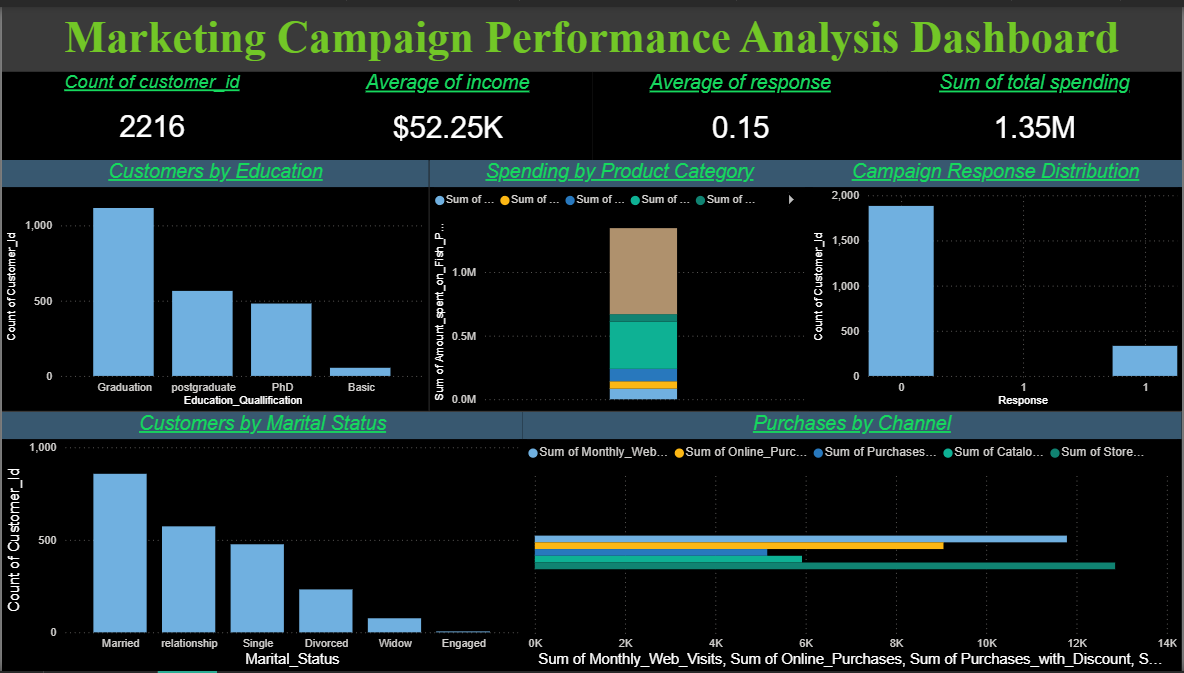

The dashboard page shown, as its layout file describes it:
{"tool":"powerbi","page":{"name":"Page 1","canvas":[1280,720],"ordinal":0},"visuals":[{"type":"card","title":"Count of customer_id","fields":{"Values":["CountNonNull(Campaign.Customer_Id)"]},"box":[0,69.9,325,96.4],"z":0},{"type":"card","title":"Average of income","fields":{"Values":["Avg(Customer. Income )"]},"box":[325,69.9,315.6,96.4],"z":1000},{"type":"card","title":"Average of response","fields":{"Values":["Avg(Campaign.Response)"]},"box":[640.6,69.9,319.4,96.4],"z":2000},{"type":"card","title":"Sum of total spending ","fields":{"Values":["Sum(Spending.Total_Spending)"]},"box":[960,69.9,319.4,96.4],"z":3000},{"type":"clusteredColumnChart","title":"Customers by Education","fields":{"Category":["Customer.Education_Quallification"],"Y":["CountNonNull(Customer.Customer_Id)"]},"box":[0,166.3,463,272.1],"z":4000},{"type":"clusteredColumnChart","title":"Customers by Marital Status","fields":{"Category":["Customer.Marital_Status"],"Y":["CountNonNull(Customer.Customer_Id)"]},"box":[0,438.4,565,281.6],"z":5000},{"type":"columnChart","title":"Spending by Product Category","fields":{"Y":["Sum(Spending.Amount_spent_on_Fish_Products)","Sum(Spending.Amount_spent_on_Fruits)","Sum(Spending.Amount_spent_on_Gold_Products)","Sum(Spending.Amount_spent_on_Meat_Products)","Sum(Spending.Amount_spent_on_Sweet_Products)","Sum(Spending.Amount_spent_on_Wines)"]},"box":[463,166.3,412,272.1],"z":6000},{"type":"columnChart","title":"Campaign Response Distribution","fields":{"Category":["Campaign.Response"],"Y":["CountNonNull(Campaign.Customer_Id)"]},"box":[875,166.3,404.4,272.1],"z":7000},{"type":"clusteredBarChart","title":"Purchases by Channel","fields":{"Y":["Sum(Purchase_Channel.Monthly_Web_Visits)","Sum(Purchase_Channel.Online_Purchases)","Sum(Purchase_Channel.Purchases_with_Discount)","Sum(Purchase_Channel.Catalog_Purchases)","Sum(Purchase_Channel.Store_Purchases)"]},"box":[565,438.4,714.3,281.6],"z":8000},{"type":"textbox","box":[0,0,1279.4,69.9],"z":9000}]}

Visuals, with their boxes in screenshot pixels (x1, y1, x2, y2), scaled from the page's 1280x720 canvas onto the 1184x673 screenshot:
"Count of customer_id" card: [left=0, top=65, right=301, bottom=155]
"Average of income" card: [left=301, top=65, right=593, bottom=155]
"Average of response" card: [left=593, top=65, right=888, bottom=155]
"Sum of total spending " card: [left=888, top=65, right=1183, bottom=155]
"Customers by Education" clusteredColumnChart: [left=0, top=155, right=428, bottom=410]
"Customers by Marital Status" clusteredColumnChart: [left=0, top=410, right=523, bottom=672]
"Spending by Product Category" columnChart: [left=428, top=155, right=809, bottom=410]
"Campaign Response Distribution" columnChart: [left=809, top=155, right=1183, bottom=410]
"Purchases by Channel" clusteredBarChart: [left=523, top=410, right=1183, bottom=672]
textbox: [left=0, top=0, right=1183, bottom=65]
